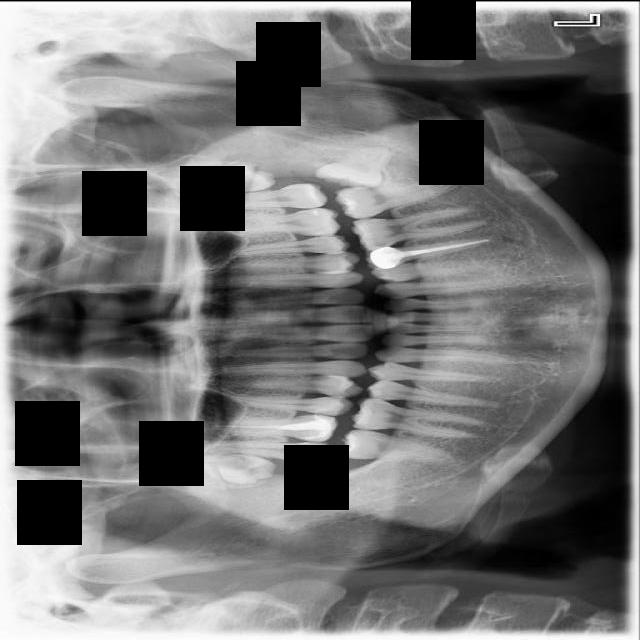3M ESPE Implant: (187, 449, 277, 486)
52: (333, 182, 387, 221), (338, 425, 385, 463), (289, 410, 339, 445), (295, 204, 341, 239), (364, 244, 407, 270)
73: (401, 234, 494, 261), (211, 416, 294, 438), (568, 16, 592, 26)
BioHorizons Implant: (193, 181, 327, 211)
BioLife Implant: (177, 159, 278, 201)
Biomet 3i Implant: (316, 145, 389, 189)
Blue Sky Bio Implant: (333, 175, 457, 221)
Caries: (200, 439, 333, 465)
Implant: (339, 427, 462, 466)
